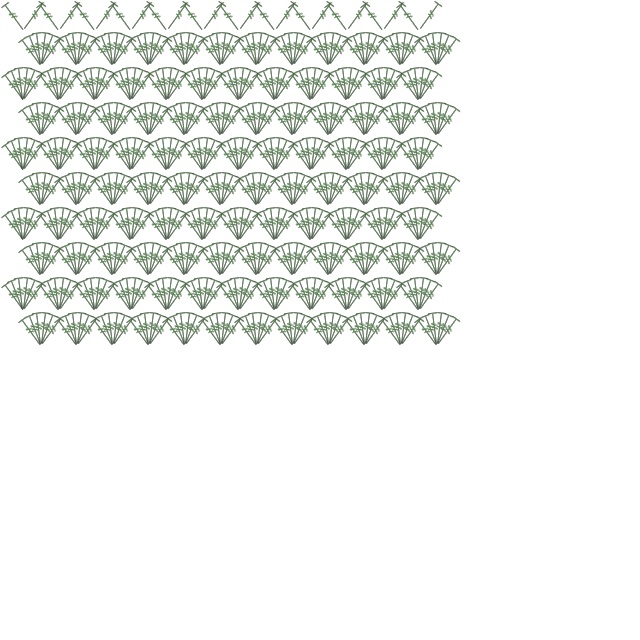fan: (0, 0, 29, 34), (19, 0, 48, 34), (36, 0, 65, 34), (55, 0, 84, 34), (72, 0, 101, 34), (91, 0, 120, 34), (108, 0, 137, 34), (127, 0, 156, 34), (144, 0, 173, 34), (163, 0, 192, 34), (180, 0, 209, 34), (199, 0, 228, 34), (216, 0, 245, 34), (235, 0, 264, 34), (252, 0, 281, 34), (271, 0, 300, 34), (288, 0, 317, 34), (307, 0, 336, 34), (324, 0, 353, 34), (343, 0, 372, 34), (360, 0, 389, 34), (379, 0, 408, 34), (396, 0, 425, 34), (415, 0, 444, 34), (18, 35, 47, 69), (37, 35, 66, 69), (54, 35, 83, 69), (73, 35, 102, 69), (90, 35, 119, 69), (109, 35, 138, 69), (126, 35, 155, 69), (145, 35, 174, 69), (162, 35, 191, 69), (181, 35, 210, 69), (198, 35, 227, 69), (217, 35, 246, 69), (234, 35, 263, 69), (253, 35, 282, 69), (270, 35, 299, 69), (289, 35, 318, 69), (306, 35, 335, 69), (325, 35, 354, 69), (342, 35, 371, 69), (361, 35, 390, 69), (378, 35, 407, 69), (397, 35, 426, 69), (414, 35, 443, 69), (433, 35, 462, 69), (0, 70, 29, 104), (19, 70, 48, 104), (36, 70, 65, 104), (55, 70, 84, 104), (72, 70, 101, 104), (91, 70, 120, 104), (108, 70, 137, 104), (127, 70, 156, 104), (144, 70, 173, 104), (163, 70, 192, 104), (180, 70, 209, 104), (199, 70, 228, 104), (216, 70, 245, 104), (235, 70, 264, 104), (252, 70, 281, 104), (271, 70, 300, 104), (288, 70, 317, 104), (307, 70, 336, 104), (324, 70, 353, 104), (343, 70, 372, 104), (360, 70, 389, 104), (379, 70, 408, 104), (396, 70, 425, 104), (415, 70, 444, 104), (18, 105, 47, 139), (37, 105, 66, 139), (54, 105, 83, 139), (73, 105, 102, 139), (90, 105, 119, 139), (109, 105, 138, 139), (126, 105, 155, 139), (145, 105, 174, 139), (162, 105, 191, 139), (181, 105, 210, 139), (198, 105, 227, 139), (217, 105, 246, 139), (234, 105, 263, 139), (253, 105, 282, 139), (270, 105, 299, 139), (289, 105, 318, 139), (306, 105, 335, 139), (325, 105, 354, 139), (342, 105, 371, 139), (361, 105, 390, 139), (378, 105, 407, 139), (397, 105, 426, 139), (414, 105, 443, 139), (433, 105, 462, 139), (0, 140, 29, 174), (19, 140, 48, 174), (36, 140, 65, 174), (55, 140, 84, 174), (72, 140, 101, 174), (91, 140, 120, 174), (108, 140, 137, 174), (127, 140, 156, 174), (144, 140, 173, 174), (163, 140, 192, 174), (180, 140, 209, 174), (199, 140, 228, 174), (216, 140, 245, 174), (235, 140, 264, 174), (252, 140, 281, 174), (271, 140, 300, 174), (288, 140, 317, 174), (307, 140, 336, 174), (324, 140, 353, 174), (343, 140, 372, 174), (360, 140, 389, 174), (379, 140, 408, 174), (396, 140, 425, 174), (415, 140, 444, 174), (18, 175, 47, 209), (37, 175, 66, 209), (54, 175, 83, 209), (73, 175, 102, 209), (90, 175, 119, 209), (109, 175, 138, 209), (126, 175, 155, 209), (145, 175, 174, 209), (162, 175, 191, 209), (181, 175, 210, 209), (198, 175, 227, 209), (217, 175, 246, 209), (234, 175, 263, 209), (253, 175, 282, 209), (270, 175, 299, 209), (289, 175, 318, 209), (306, 175, 335, 209), (325, 175, 354, 209), (342, 175, 371, 209), (361, 175, 390, 209), (378, 175, 407, 209), (397, 175, 426, 209), (414, 175, 443, 209), (433, 175, 462, 209), (0, 210, 29, 244), (19, 210, 48, 244), (36, 210, 65, 244), (55, 210, 84, 244), (72, 210, 101, 244), (91, 210, 120, 244), (108, 210, 137, 244), (127, 210, 156, 244), (144, 210, 173, 244), (163, 210, 192, 244), (180, 210, 209, 244), (199, 210, 228, 244), (216, 210, 245, 244), (235, 210, 264, 244), (252, 210, 281, 244), (271, 210, 300, 244), (288, 210, 317, 244), (307, 210, 336, 244), (324, 210, 353, 244), (343, 210, 372, 244), (360, 210, 389, 244), (379, 210, 408, 244), (396, 210, 425, 244), (415, 210, 444, 244), (18, 245, 47, 279), (37, 245, 66, 279), (54, 245, 83, 279), (73, 245, 102, 279), (90, 245, 119, 279), (109, 245, 138, 279), (126, 245, 155, 279), (145, 245, 174, 279), (162, 245, 191, 279), (181, 245, 210, 279), (198, 245, 227, 279), (217, 245, 246, 279), (234, 245, 263, 279), (253, 245, 282, 279), (270, 245, 299, 279), (289, 245, 318, 279), (306, 245, 335, 279), (325, 245, 354, 279), (342, 245, 371, 279), (361, 245, 390, 279), (378, 245, 407, 279), (397, 245, 426, 279), (414, 245, 443, 279), (433, 245, 462, 279), (0, 280, 29, 314), (19, 280, 48, 314), (36, 280, 65, 314), (55, 280, 84, 314), (72, 280, 101, 314), (91, 280, 120, 314), (108, 280, 137, 314), (127, 280, 156, 314), (144, 280, 173, 314), (163, 280, 192, 314), (180, 280, 209, 314), (199, 280, 228, 314), (216, 280, 245, 314), (235, 280, 264, 314), (252, 280, 281, 314), (271, 280, 300, 314), (288, 280, 317, 314), (307, 280, 336, 314), (324, 280, 353, 314), (343, 280, 372, 314), (360, 280, 389, 314), (379, 280, 408, 314), (396, 280, 425, 314), (415, 280, 444, 314), (18, 315, 47, 349), (37, 315, 66, 349), (54, 315, 83, 349), (73, 315, 102, 349), (90, 315, 119, 349), (109, 315, 138, 349), (126, 315, 155, 349), (145, 315, 174, 349), (162, 315, 191, 349), (181, 315, 210, 349), (198, 315, 227, 349), (217, 315, 246, 349), (234, 315, 263, 349), (253, 315, 282, 349), (270, 315, 299, 349), (289, 315, 318, 349), (306, 315, 335, 349), (325, 315, 354, 349), (342, 315, 371, 349), (361, 315, 390, 349), (378, 315, 407, 349), (397, 315, 426, 349), (414, 315, 443, 349), (433, 315, 462, 349), (24, 32, 48, 67), (36, 32, 60, 67), (60, 32, 84, 67), (72, 32, 96, 67), (96, 32, 120, 67), (108, 32, 132, 67), (132, 32, 156, 67), (144, 32, 168, 67), (168, 32, 192, 67), (180, 32, 204, 67), (204, 32, 228, 67), (216, 32, 240, 67), (240, 32, 264, 67), (252, 32, 276, 67), (276, 32, 300, 67), (288, 32, 312, 67), (312, 32, 336, 67), (324, 32, 348, 67), (348, 32, 372, 67), (360, 32, 384, 67), (384, 32, 408, 67), (396, 32, 420, 67), (420, 32, 444, 67), (432, 32, 456, 67), (6, 67, 30, 102), (18, 67, 42, 102), (42, 67, 66, 102), (54, 67, 78, 102), (78, 67, 102, 102), (90, 67, 114, 102), (114, 67, 138, 102), (126, 67, 150, 102), (150, 67, 174, 102), (162, 67, 186, 102), (186, 67, 210, 102), (198, 67, 222, 102), (222, 67, 246, 102), (234, 67, 258, 102), (258, 67, 282, 102), (270, 67, 294, 102), (294, 67, 318, 102), (306, 67, 330, 102), (330, 67, 354, 102), (342, 67, 366, 102), (366, 67, 390, 102), (378, 67, 402, 102), (402, 67, 426, 102), (414, 67, 438, 102), (24, 102, 48, 137), (36, 102, 60, 137), (60, 102, 84, 137), (72, 102, 96, 137), (96, 102, 120, 137), (108, 102, 132, 137), (132, 102, 156, 137), (144, 102, 168, 137), (168, 102, 192, 137), (180, 102, 204, 137), (204, 102, 228, 137), (216, 102, 240, 137), (240, 102, 264, 137), (252, 102, 276, 137), (276, 102, 300, 137), (288, 102, 312, 137), (312, 102, 336, 137), (324, 102, 348, 137), (348, 102, 372, 137), (360, 102, 384, 137), (384, 102, 408, 137), (396, 102, 420, 137), (420, 102, 444, 137), (432, 102, 456, 137), (6, 137, 30, 172), (18, 137, 42, 172), (42, 137, 66, 172), (54, 137, 78, 172), (78, 137, 102, 172), (90, 137, 114, 172), (114, 137, 138, 172), (126, 137, 150, 172), (150, 137, 174, 172), (162, 137, 186, 172), (186, 137, 210, 172), (198, 137, 222, 172), (222, 137, 246, 172), (234, 137, 258, 172), (258, 137, 282, 172), (270, 137, 294, 172), (294, 137, 318, 172), (306, 137, 330, 172), (330, 137, 354, 172), (342, 137, 366, 172), (366, 137, 390, 172), (378, 137, 402, 172), (402, 137, 426, 172), (414, 137, 438, 172), (24, 172, 48, 207), (36, 172, 60, 207), (60, 172, 84, 207), (72, 172, 96, 207), (96, 172, 120, 207), (108, 172, 132, 207), (132, 172, 156, 207), (144, 172, 168, 207), (168, 172, 192, 207), (180, 172, 204, 207), (204, 172, 228, 207), (216, 172, 240, 207), (240, 172, 264, 207), (252, 172, 276, 207), (276, 172, 300, 207), (288, 172, 312, 207), (312, 172, 336, 207), (324, 172, 348, 207), (348, 172, 372, 207), (360, 172, 384, 207), (384, 172, 408, 207), (396, 172, 420, 207), (420, 172, 444, 207), (432, 172, 456, 207), (6, 207, 30, 242), (18, 207, 42, 242), (42, 207, 66, 242), (54, 207, 78, 242), (78, 207, 102, 242), (90, 207, 114, 242), (114, 207, 138, 242), (126, 207, 150, 242), (150, 207, 174, 242), (162, 207, 186, 242), (186, 207, 210, 242), (198, 207, 222, 242), (222, 207, 246, 242), (234, 207, 258, 242), (258, 207, 282, 242), (270, 207, 294, 242), (294, 207, 318, 242), (306, 207, 330, 242), (330, 207, 354, 242), (342, 207, 366, 242), (366, 207, 390, 242), (378, 207, 402, 242), (402, 207, 426, 242), (414, 207, 438, 242), (24, 242, 48, 277), (36, 242, 60, 277), (60, 242, 84, 277), (72, 242, 96, 277), (96, 242, 120, 277), (108, 242, 132, 277), (132, 242, 156, 277), (144, 242, 168, 277), (168, 242, 192, 277), (180, 242, 204, 277), (204, 242, 228, 277), (216, 242, 240, 277), (240, 242, 264, 277), (252, 242, 276, 277), (276, 242, 300, 277), (288, 242, 312, 277), (312, 242, 336, 277), (324, 242, 348, 277), (348, 242, 372, 277), (360, 242, 384, 277), (384, 242, 408, 277), (396, 242, 420, 277), (420, 242, 444, 277), (432, 242, 456, 277), (6, 277, 30, 312), (18, 277, 42, 312), (42, 277, 66, 312), (54, 277, 78, 312), (78, 277, 102, 312), (90, 277, 114, 312), (114, 277, 138, 312), (126, 277, 150, 312), (150, 277, 174, 312), (162, 277, 186, 312), (186, 277, 210, 312), (198, 277, 222, 312), (222, 277, 246, 312), (234, 277, 258, 312), (258, 277, 282, 312), (270, 277, 294, 312), (294, 277, 318, 312), (306, 277, 330, 312), (330, 277, 354, 312), (342, 277, 366, 312), (366, 277, 390, 312), (378, 277, 402, 312), (402, 277, 426, 312), (414, 277, 438, 312), (24, 312, 48, 347), (36, 312, 60, 347), (60, 312, 84, 347), (72, 312, 96, 347), (96, 312, 120, 347), (108, 312, 132, 347), (132, 312, 156, 347), (144, 312, 168, 347), (168, 312, 192, 347), (180, 312, 204, 347), (204, 312, 228, 347), (216, 312, 240, 347), (240, 312, 264, 347), (252, 312, 276, 347), (276, 312, 300, 347), (288, 312, 312, 347), (312, 312, 336, 347), (324, 312, 348, 347), (348, 312, 372, 347), (360, 312, 384, 347), (384, 312, 408, 347), (396, 312, 420, 347), (420, 312, 444, 347), (432, 312, 456, 347), (32, 32, 48, 66), (36, 32, 52, 66), (68, 32, 84, 66), (72, 32, 88, 66), (104, 32, 120, 66), (108, 32, 124, 66), (140, 32, 156, 66), (144, 32, 160, 66), (176, 32, 192, 66), (180, 32, 196, 66), (212, 32, 228, 66), (216, 32, 232, 66), (248, 32, 264, 66), (252, 32, 268, 66), (284, 32, 300, 66), (288, 32, 304, 66), (320, 32, 336, 66), (324, 32, 340, 66), (356, 32, 372, 66), (360, 32, 376, 66), (392, 32, 408, 66), (396, 32, 412, 66), (428, 32, 444, 66), (432, 32, 448, 66), (14, 67, 30, 101), (18, 67, 34, 101), (50, 67, 66, 101), (54, 67, 70, 101), (86, 67, 102, 101), (90, 67, 106, 101), (122, 67, 138, 101), (126, 67, 142, 101), (158, 67, 174, 101), (162, 67, 178, 101), (194, 67, 210, 101), (198, 67, 214, 101), (230, 67, 246, 101), (234, 67, 250, 101), (266, 67, 282, 101), (270, 67, 286, 101), (302, 67, 318, 101), (306, 67, 322, 101), (338, 67, 354, 101), (342, 67, 358, 101), (374, 67, 390, 101), (378, 67, 394, 101), (410, 67, 426, 101), (414, 67, 430, 101), (32, 102, 48, 136), (36, 102, 52, 136), (68, 102, 84, 136), (72, 102, 88, 136), (104, 102, 120, 136), (108, 102, 124, 136), (140, 102, 156, 136), (144, 102, 160, 136), (176, 102, 192, 136), (180, 102, 196, 136), (212, 102, 228, 136), (216, 102, 232, 136), (248, 102, 264, 136), (252, 102, 268, 136), (284, 102, 300, 136), (288, 102, 304, 136), (320, 102, 336, 136), (324, 102, 340, 136), (356, 102, 372, 136), (360, 102, 376, 136), (392, 102, 408, 136), (396, 102, 412, 136), (428, 102, 444, 136), (432, 102, 448, 136), (14, 137, 30, 171), (18, 137, 34, 171), (50, 137, 66, 171), (54, 137, 70, 171), (86, 137, 102, 171), (90, 137, 106, 171), (122, 137, 138, 171), (126, 137, 142, 171), (158, 137, 174, 171), (162, 137, 178, 171), (194, 137, 210, 171), (198, 137, 214, 171), (230, 137, 246, 171), (234, 137, 250, 171), (266, 137, 282, 171), (270, 137, 286, 171), (302, 137, 318, 171), (306, 137, 322, 171), (338, 137, 354, 171), (342, 137, 358, 171), (374, 137, 390, 171), (378, 137, 394, 171), (410, 137, 426, 171), (414, 137, 430, 171), (32, 172, 48, 206), (36, 172, 52, 206), (68, 172, 84, 206), (72, 172, 88, 206), (104, 172, 120, 206), (108, 172, 124, 206), (140, 172, 156, 206), (144, 172, 160, 206), (176, 172, 192, 206), (180, 172, 196, 206), (212, 172, 228, 206), (216, 172, 232, 206), (248, 172, 264, 206), (252, 172, 268, 206), (284, 172, 300, 206), (288, 172, 304, 206), (320, 172, 336, 206), (324, 172, 340, 206), (356, 172, 372, 206), (360, 172, 376, 206), (392, 172, 408, 206), (396, 172, 412, 206), (428, 172, 444, 206), (432, 172, 448, 206), (14, 207, 30, 241), (18, 207, 34, 241), (50, 207, 66, 241), (54, 207, 70, 241), (86, 207, 102, 241), (90, 207, 106, 241), (122, 207, 138, 241), (126, 207, 142, 241), (158, 207, 174, 241), (162, 207, 178, 241), (194, 207, 210, 241), (198, 207, 214, 241), (230, 207, 246, 241), (234, 207, 250, 241), (266, 207, 282, 241), (270, 207, 286, 241), (302, 207, 318, 241), (306, 207, 322, 241), (338, 207, 354, 241), (342, 207, 358, 241), (374, 207, 390, 241), (378, 207, 394, 241), (410, 207, 426, 241), (414, 207, 430, 241), (32, 242, 48, 276), (36, 242, 52, 276), (68, 242, 84, 276), (72, 242, 88, 276), (104, 242, 120, 276), (108, 242, 124, 276), (140, 242, 156, 276), (144, 242, 160, 276), (176, 242, 192, 276), (180, 242, 196, 276), (212, 242, 228, 276), (216, 242, 232, 276), (248, 242, 264, 276), (252, 242, 268, 276), (284, 242, 300, 276), (288, 242, 304, 276), (320, 242, 336, 276), (324, 242, 340, 276), (356, 242, 372, 276), (360, 242, 376, 276), (392, 242, 408, 276), (396, 242, 412, 276), (428, 242, 444, 276), (432, 242, 448, 276), (14, 277, 30, 311), (18, 277, 34, 311), (50, 277, 66, 311), (54, 277, 70, 311), (86, 277, 102, 311), (90, 277, 106, 311), (122, 277, 138, 311), (126, 277, 142, 311), (158, 277, 174, 311), (162, 277, 178, 311), (194, 277, 210, 311), (198, 277, 214, 311), (230, 277, 246, 311), (234, 277, 250, 311), (266, 277, 282, 311), (270, 277, 286, 311), (302, 277, 318, 311), (306, 277, 322, 311), (338, 277, 354, 311), (342, 277, 358, 311), (374, 277, 390, 311), (378, 277, 394, 311), (410, 277, 426, 311), (414, 277, 430, 311), (32, 312, 48, 346), (36, 312, 52, 346), (68, 312, 84, 346), (72, 312, 88, 346), (104, 312, 120, 346), (108, 312, 124, 346), (140, 312, 156, 346), (144, 312, 160, 346), (176, 312, 192, 346), (180, 312, 196, 346), (212, 312, 228, 346), (216, 312, 232, 346), (248, 312, 264, 346), (252, 312, 268, 346), (284, 312, 300, 346), (288, 312, 304, 346), (320, 312, 336, 346), (324, 312, 340, 346), (356, 312, 372, 346), (360, 312, 376, 346), (392, 312, 408, 346), (396, 312, 412, 346), (428, 312, 444, 346), (432, 312, 448, 346)
